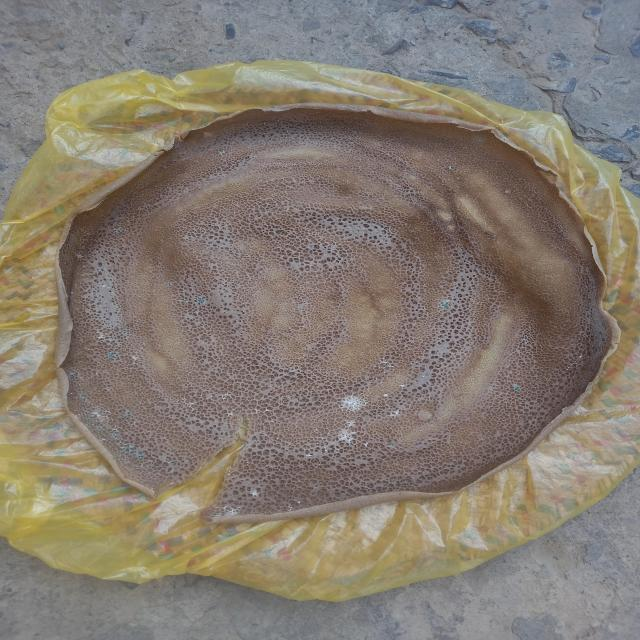injera_mold: (303, 427, 358, 466), (78, 405, 110, 431), (338, 393, 368, 414), (562, 356, 596, 372), (241, 461, 289, 471), (211, 506, 245, 519), (276, 498, 302, 513), (374, 356, 397, 372), (174, 396, 198, 411), (216, 392, 236, 407), (114, 445, 136, 457), (136, 451, 150, 464), (387, 408, 402, 420), (104, 352, 119, 361), (72, 252, 85, 262), (511, 384, 523, 393), (194, 296, 207, 304), (440, 300, 450, 310), (97, 330, 108, 339), (130, 355, 138, 365), (121, 412, 132, 419), (476, 134, 484, 143), (217, 149, 226, 157), (250, 491, 260, 498), (169, 459, 179, 466), (345, 419, 356, 425), (388, 443, 397, 450), (110, 434, 120, 440), (114, 228, 123, 234), (77, 392, 86, 398), (225, 412, 235, 417), (122, 329, 130, 335), (105, 386, 113, 392), (166, 282, 173, 288), (141, 342, 148, 348), (178, 300, 186, 304), (69, 372, 76, 376), (398, 384, 405, 387), (383, 393, 388, 397)
